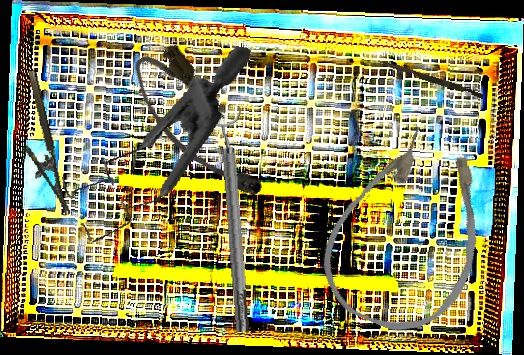Cannula: (305, 111, 515, 350), (121, 36, 274, 218)
Fixation Ring: (206, 105, 260, 334)
Needle Holder: (8, 69, 71, 221)
Pusher: (376, 58, 485, 100)
Speculum: (49, 14, 252, 267)
